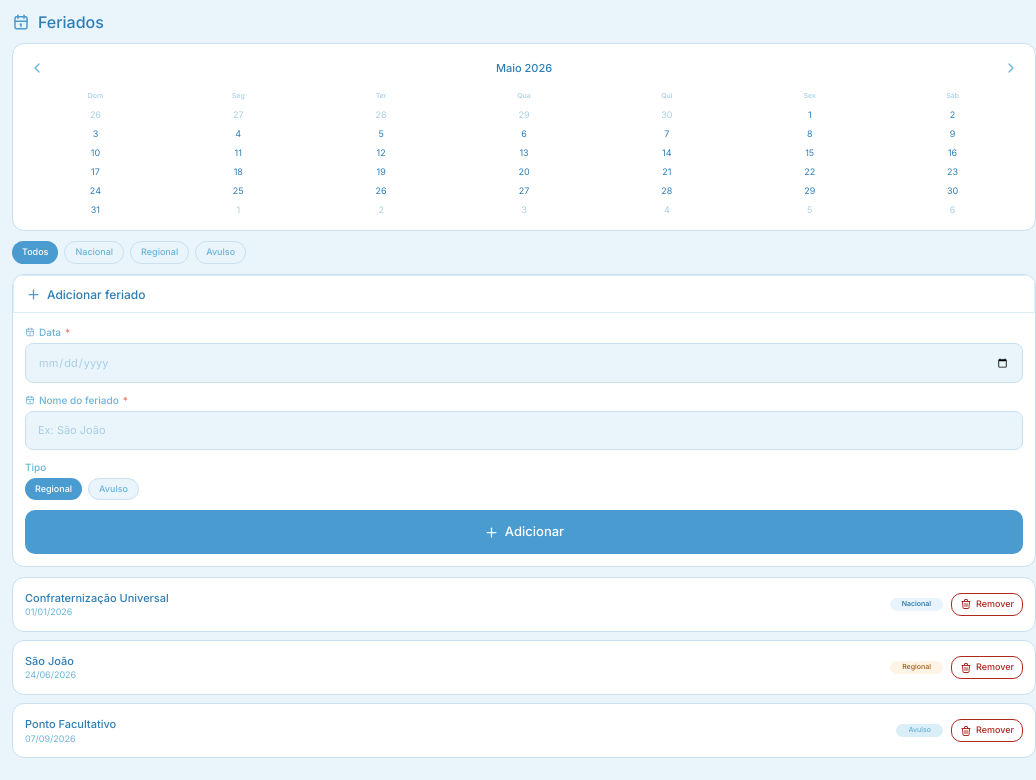
Test case: FeriadosPage — filtros › filtra por Regional ao clicar no chip
Step 1. Click the 1st button "Regional" → [160, 252], box [130, 241, 189, 264]
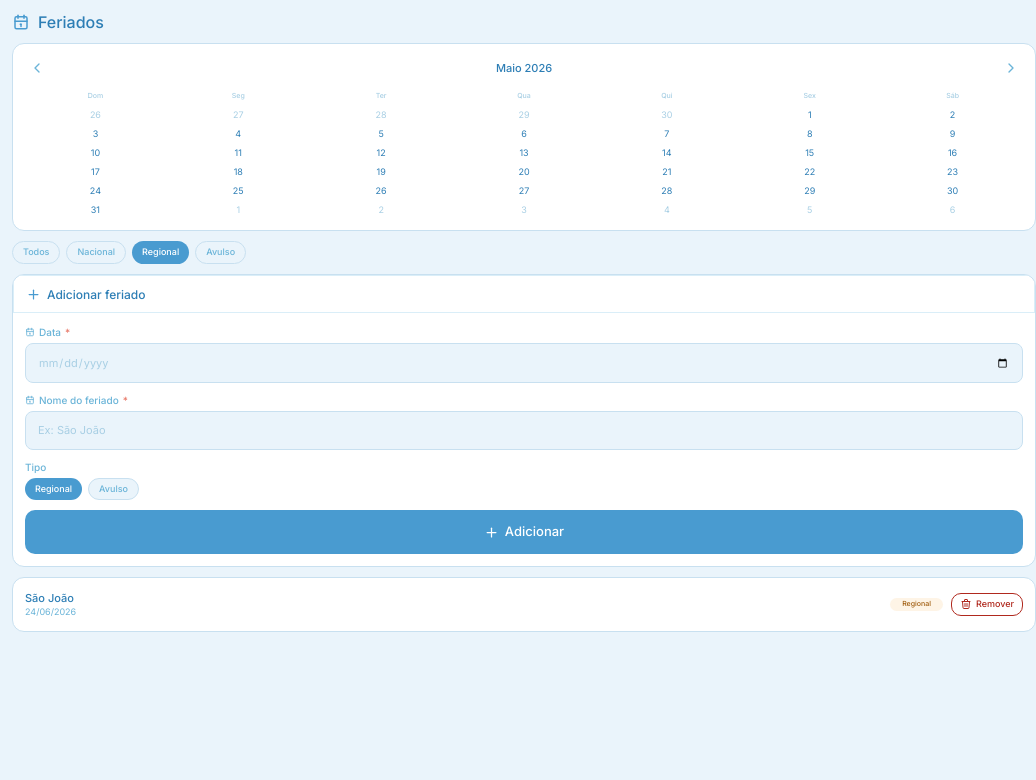
Expected: the text "São João" is shown, [25, 591, 74, 605]
Now the text "Confraternização Universal" is gone
Now the text "Ponto Facultativo" is gone
